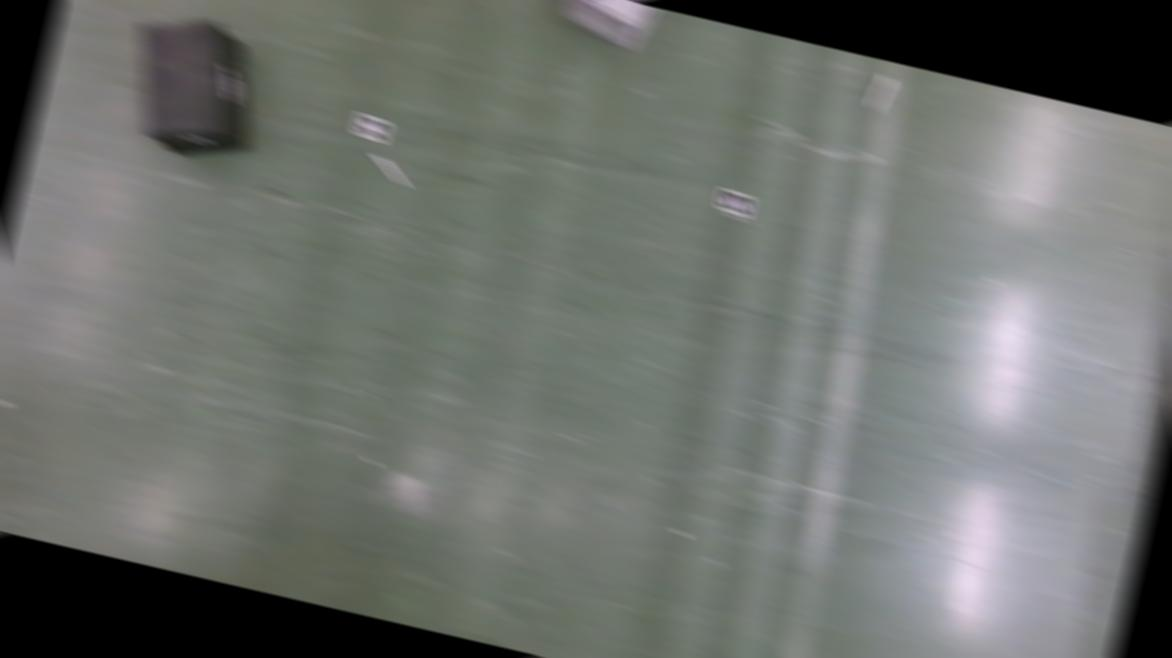probes: (369, 154, 412, 189), (868, 75, 894, 115)
rako: (112, 6, 274, 172), (550, 0, 651, 50)
